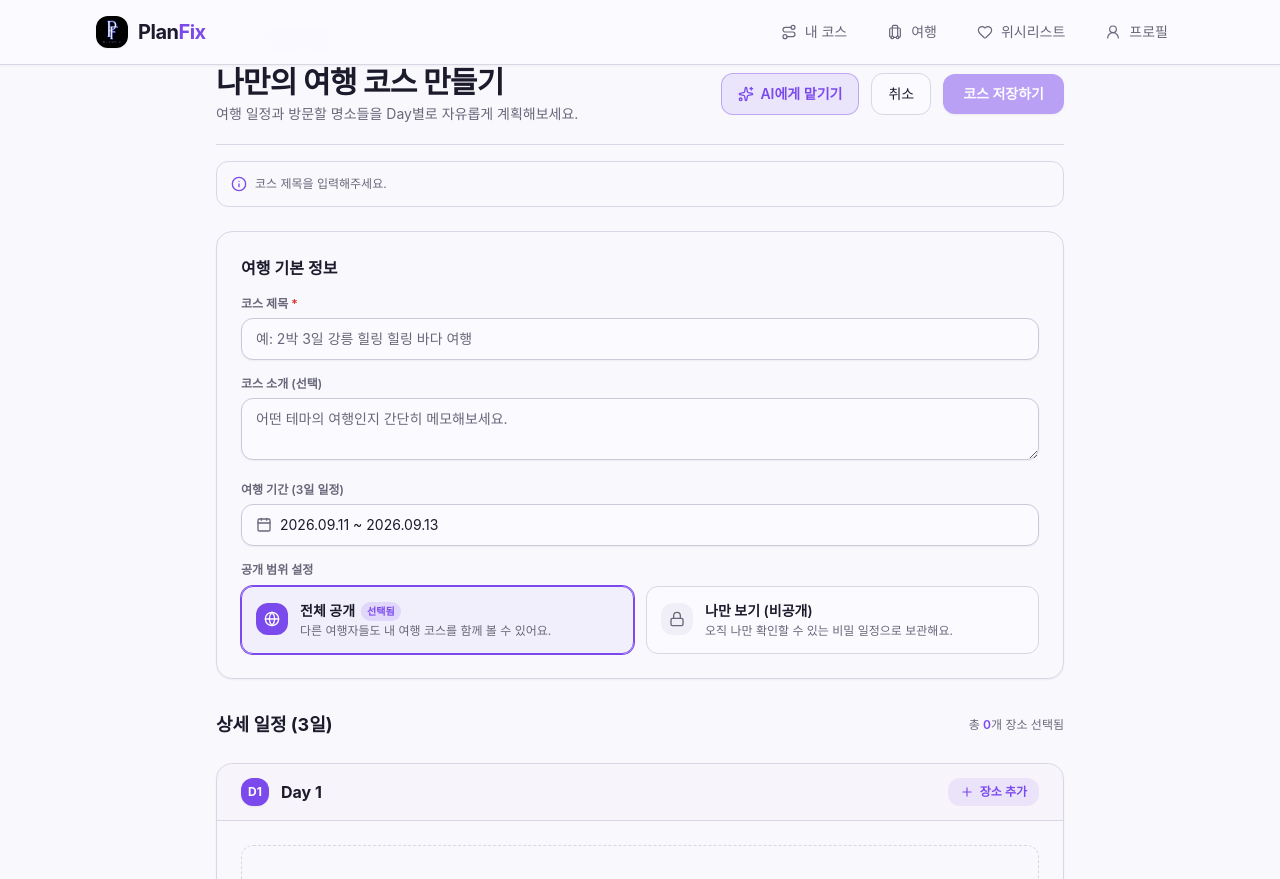
Test: CourseCreatePage › 여행 기간 버튼을 누르면 캘린더가 열리고 시작일/종료일을 선택해 적용하면 Day 카드 수가 바뀐다
What coordinates should you click on to do the following:
click the button "2026.09.11 ~ 2026.09.13"
I would click on:
 (315, 524)
Its box is 241,504 -> 1039,546.
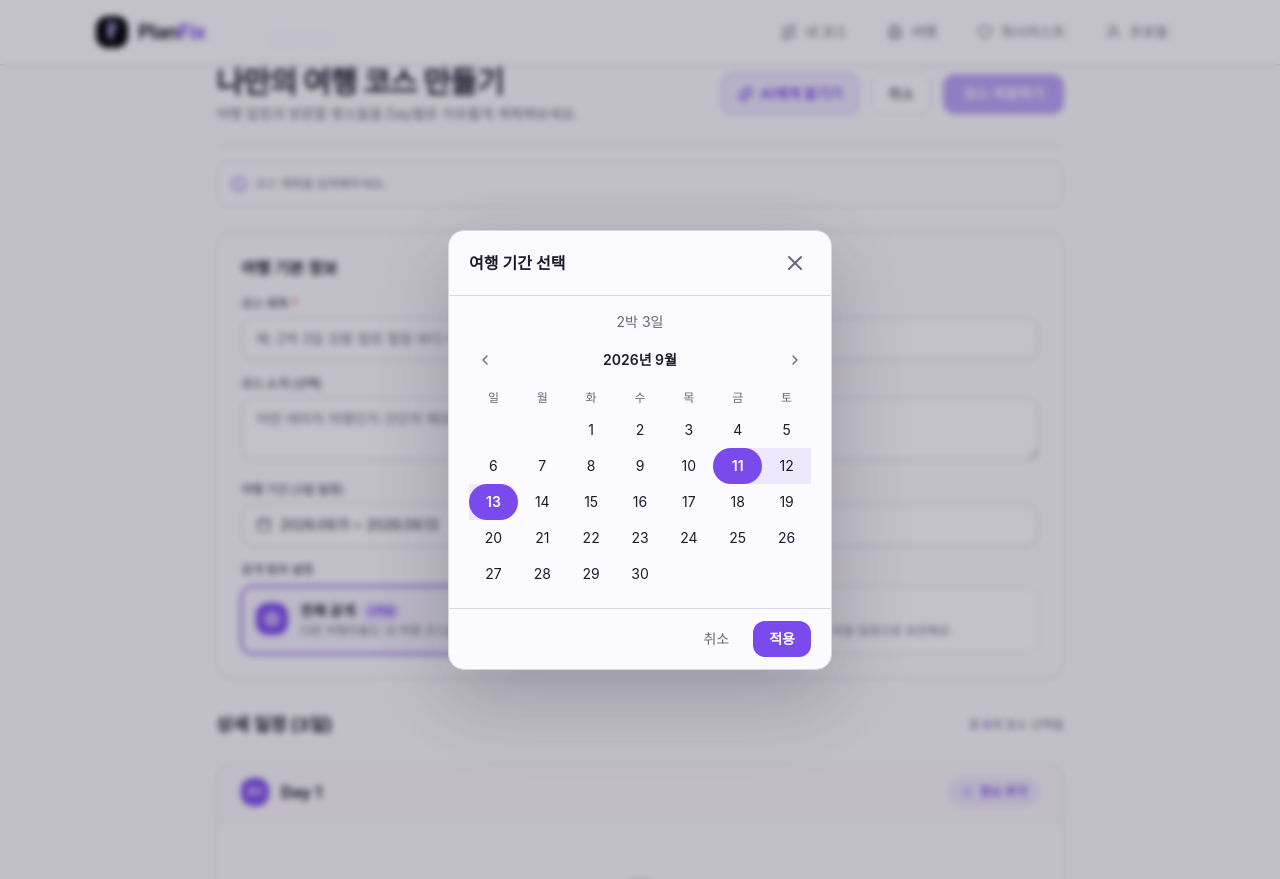
Expected: the heading "여행 기간 선택" is shown, 469,251 -> 565,275
What coordinates should you click on to do the following:
click the button "10"
I would click on:
 (689, 466)
Its box is 664,448 -> 713,484.
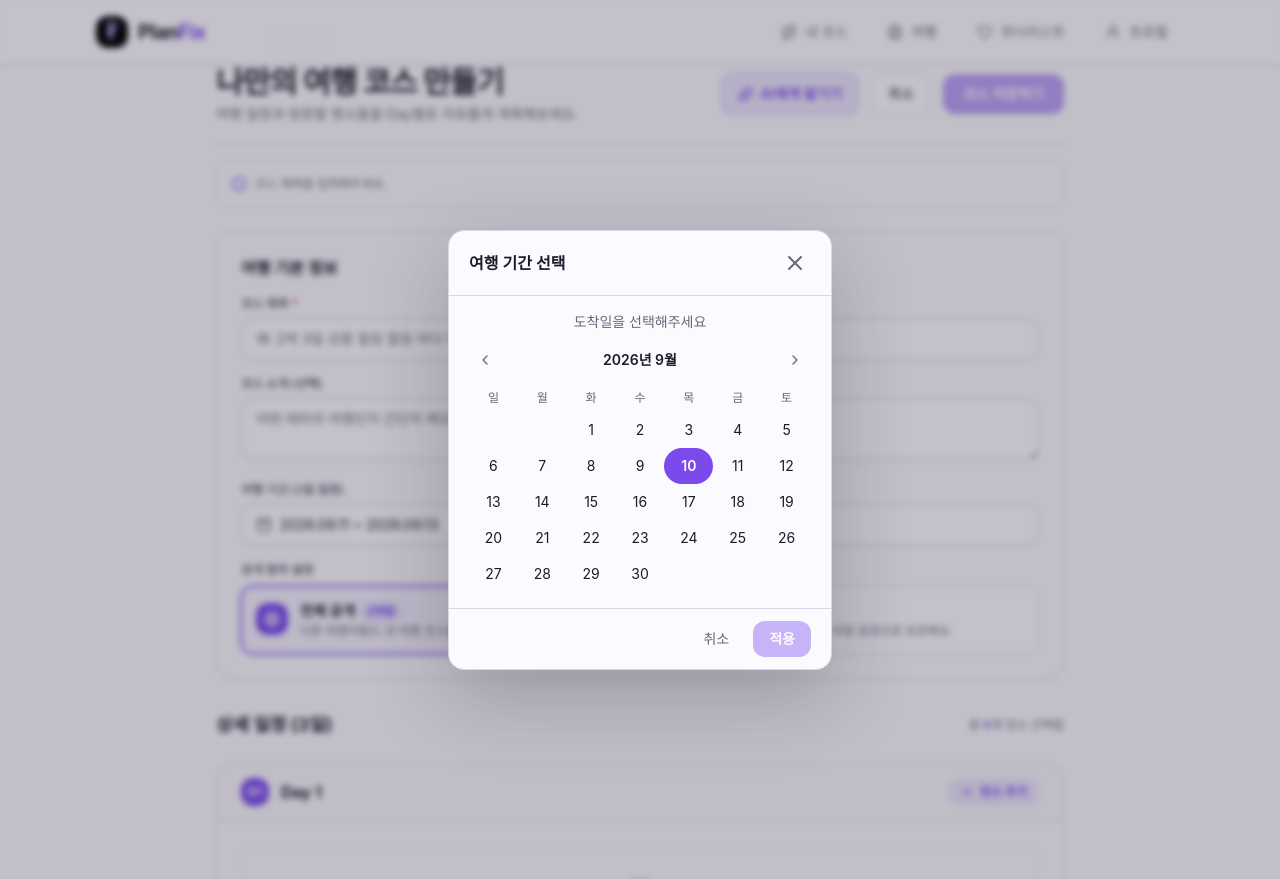
Expected: the button "적용" is disabled, 753,621 -> 811,657
What coordinates should you click on to do the following:
click the button "11"
I would click on:
 (738, 466)
Its box is 713,448 -> 762,484.
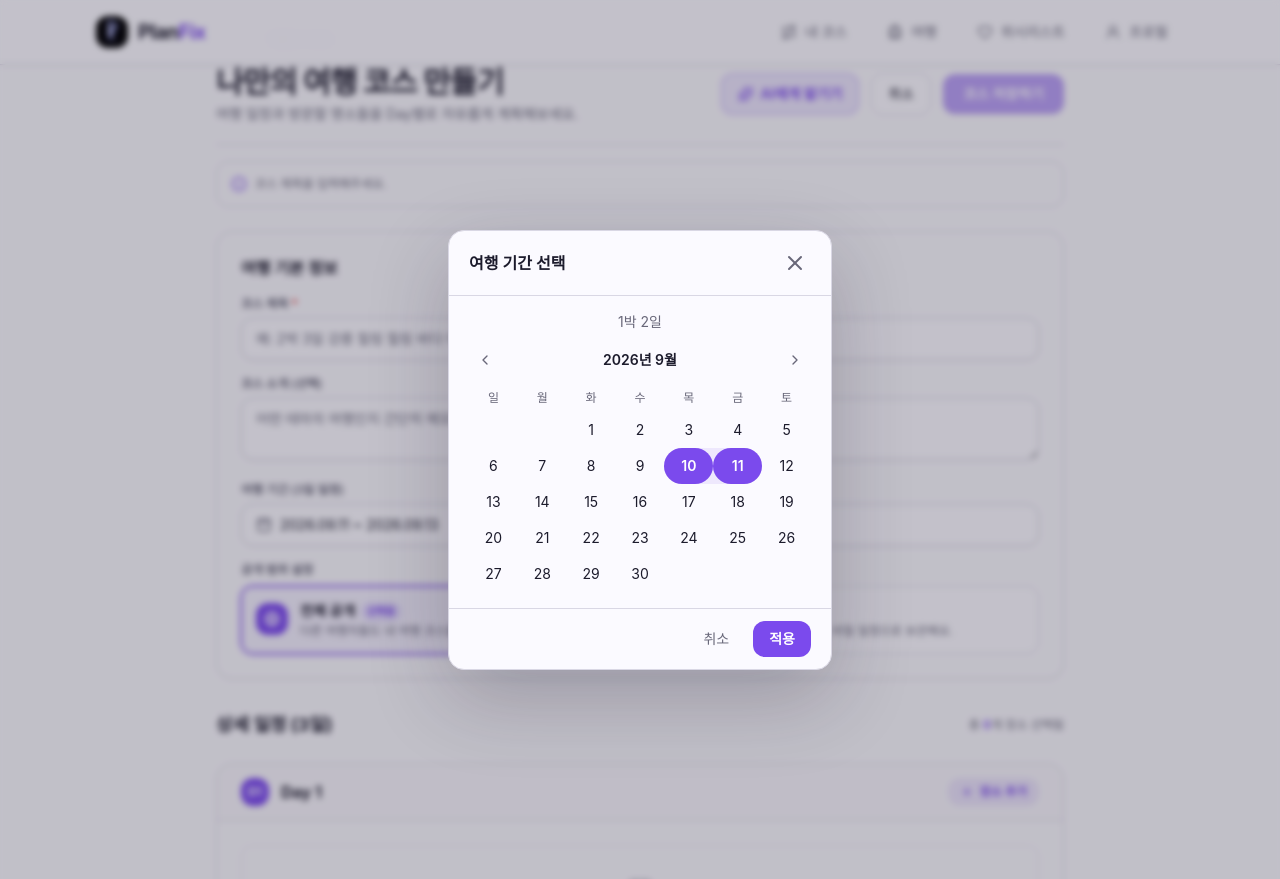
Expected: the button "적용" is enabled
What coordinates should you click on to do the following:
click the button "적용"
I would click on:
 (782, 639)
Its box is 753,621 -> 811,657.
(page scrolled)
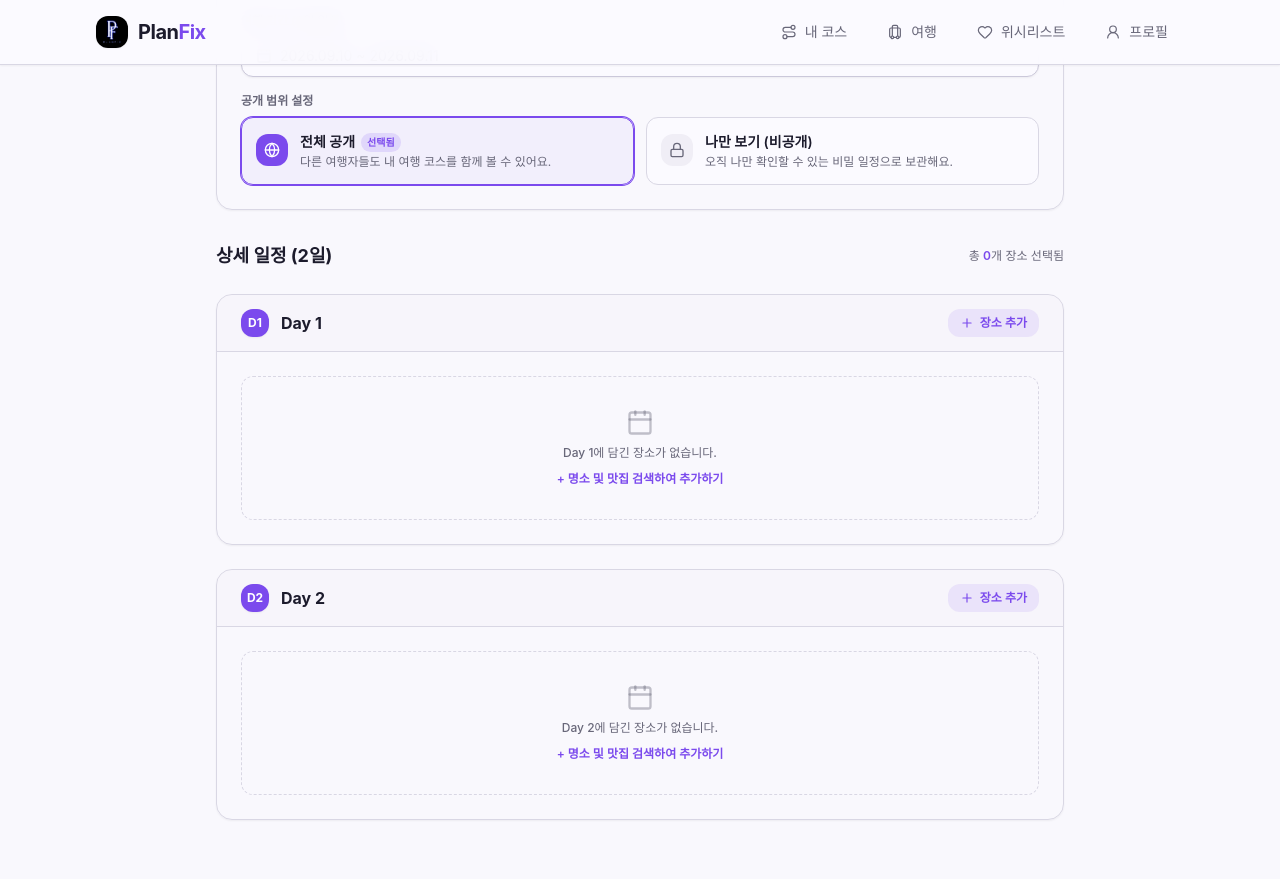
Expected: the element with test id "day-card-1" is shown, 216,294 -> 1064,545
Expected: the heading "여행 기간 선택" is gone
